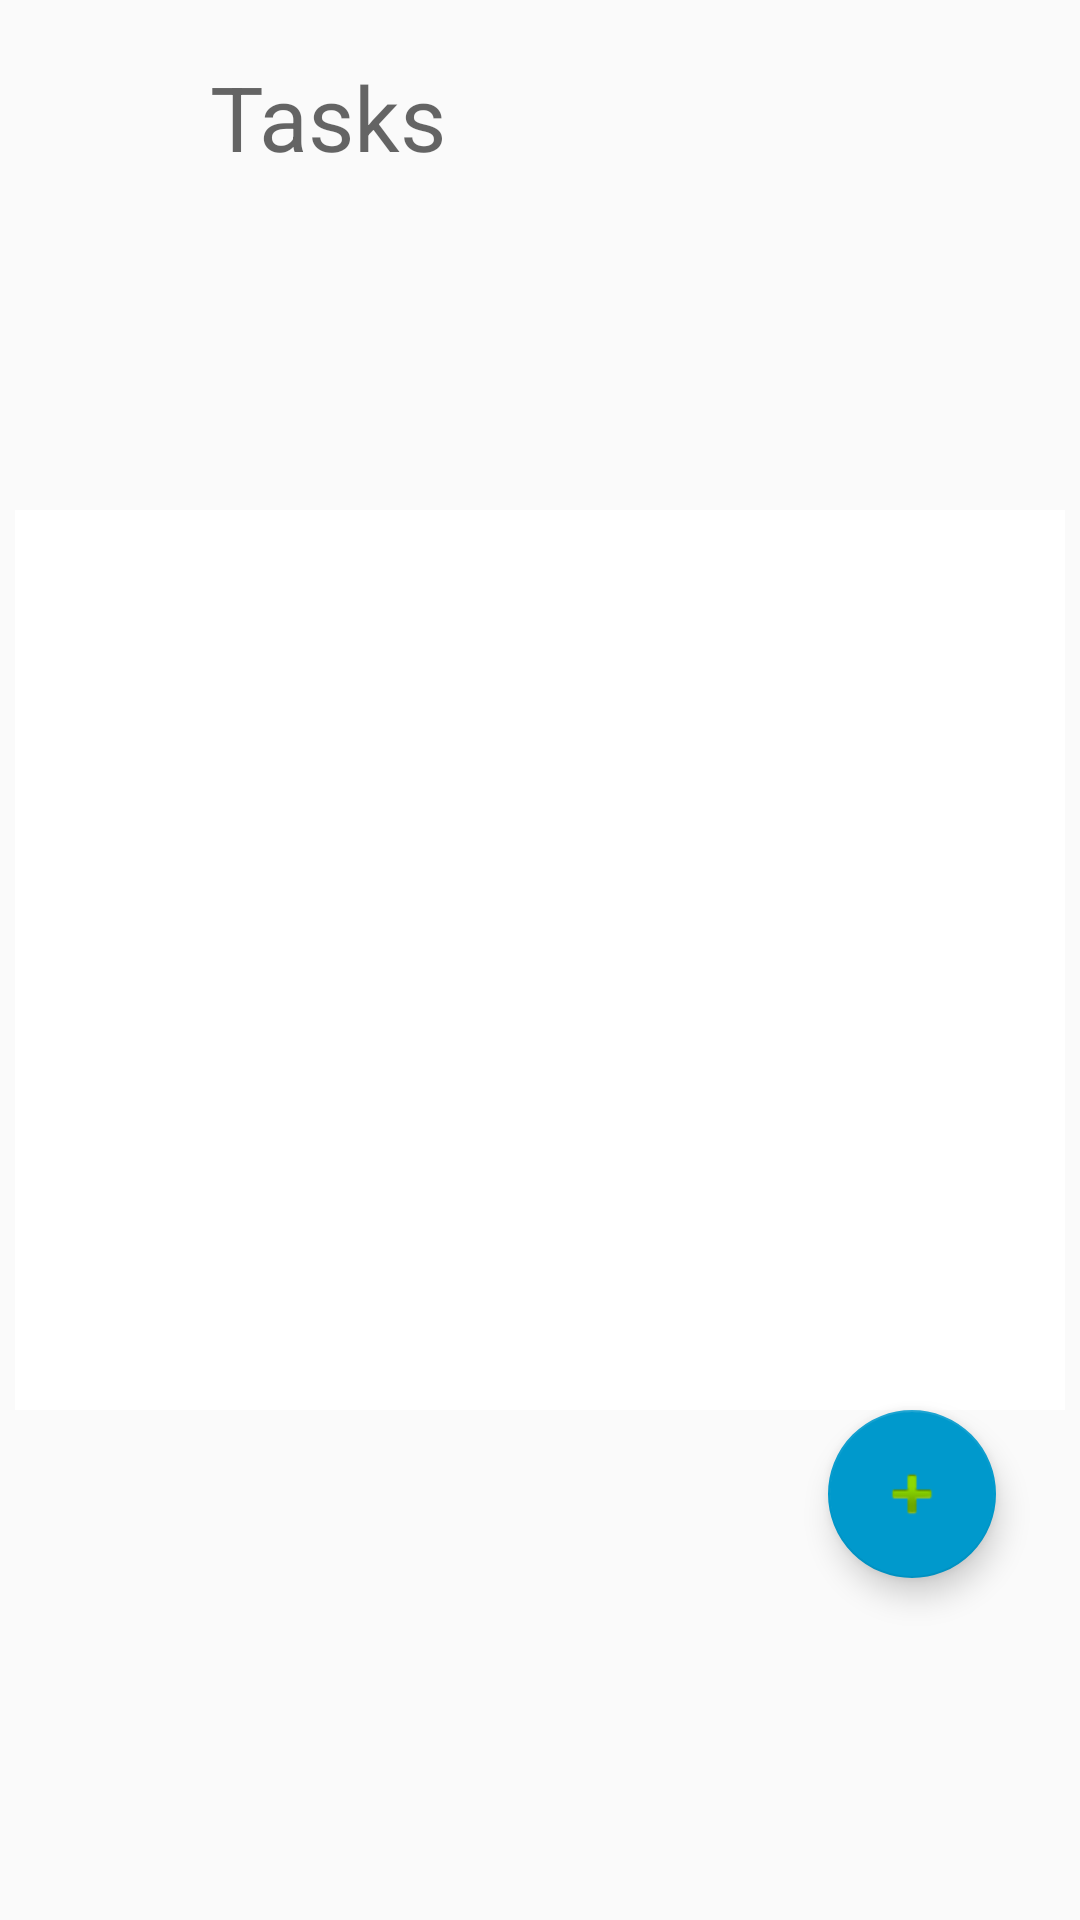

Screen size 1080×1920. Icon name, then its box in pixels as bbox=(x1, y1, x2, y2):
Add Task: bbox=(828, 1410, 996, 1578)
